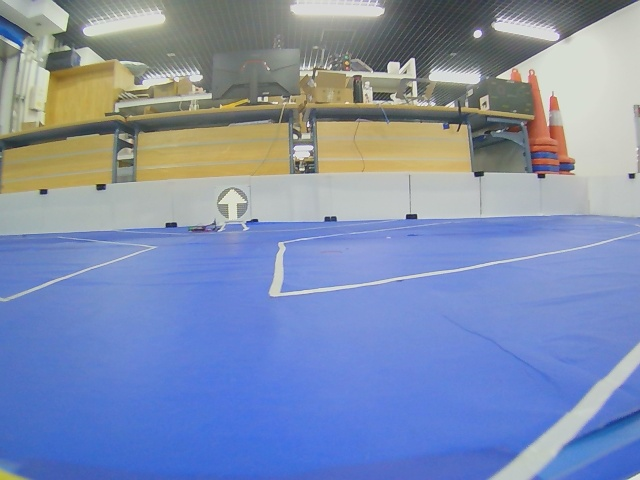straight_yellow: (217, 187, 249, 221)
